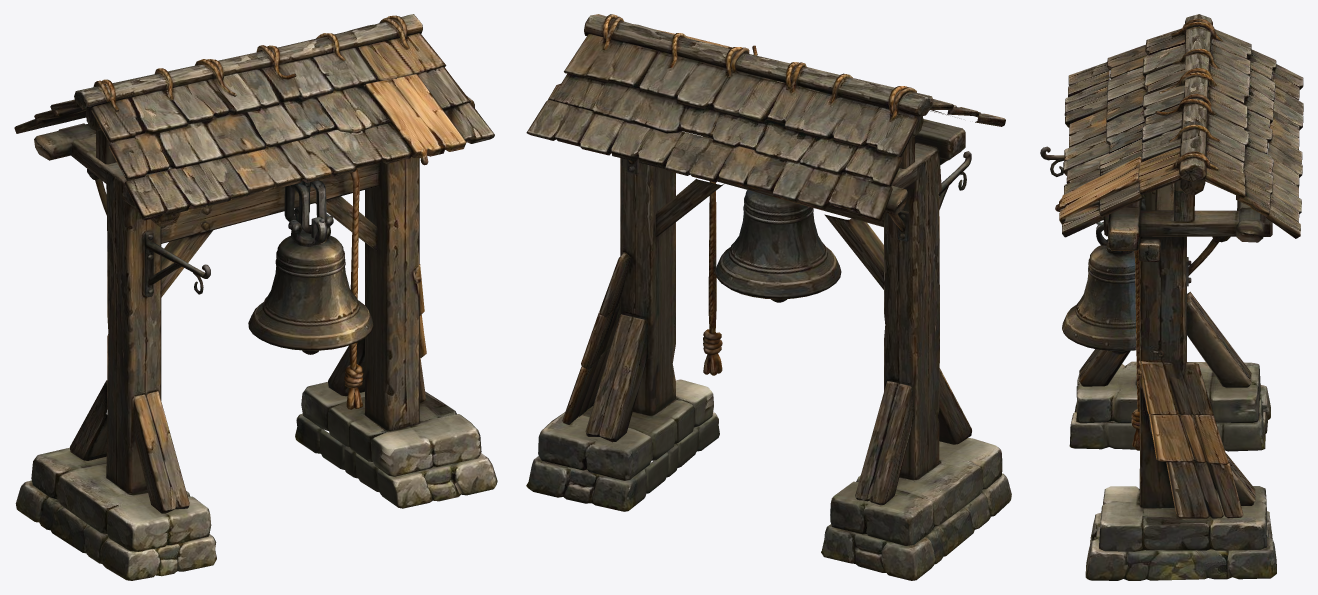
File: act1-a15-4-bell-frame.glb
The picture shows the model from 3 angles, left to right: view 1: azimuth 30°, elevation 25°; view 2: azimuth 150°, elevation 25°; view 3: azimuth 270°, elevation 25°; orthographic projection. The views are drawn at different scales.
Parts seen in each view (by area): view 1: act1-a15-4-bell-frame; view 2: act1-a15-4-bell-frame; view 3: act1-a15-4-bell-frame.
Boxes of the visible parts, x1,y1,x2,y2 form: act1-a15-4-bell-frame: (14, 14, 497, 580); act1-a15-4-bell-frame: (526, 14, 1011, 580); act1-a15-4-bell-frame: (1040, 14, 1303, 580).
Bounding box in the file's own units: 3.14 × 3.4 × 1.98.
Materials: 1 (1 with a texture image).
